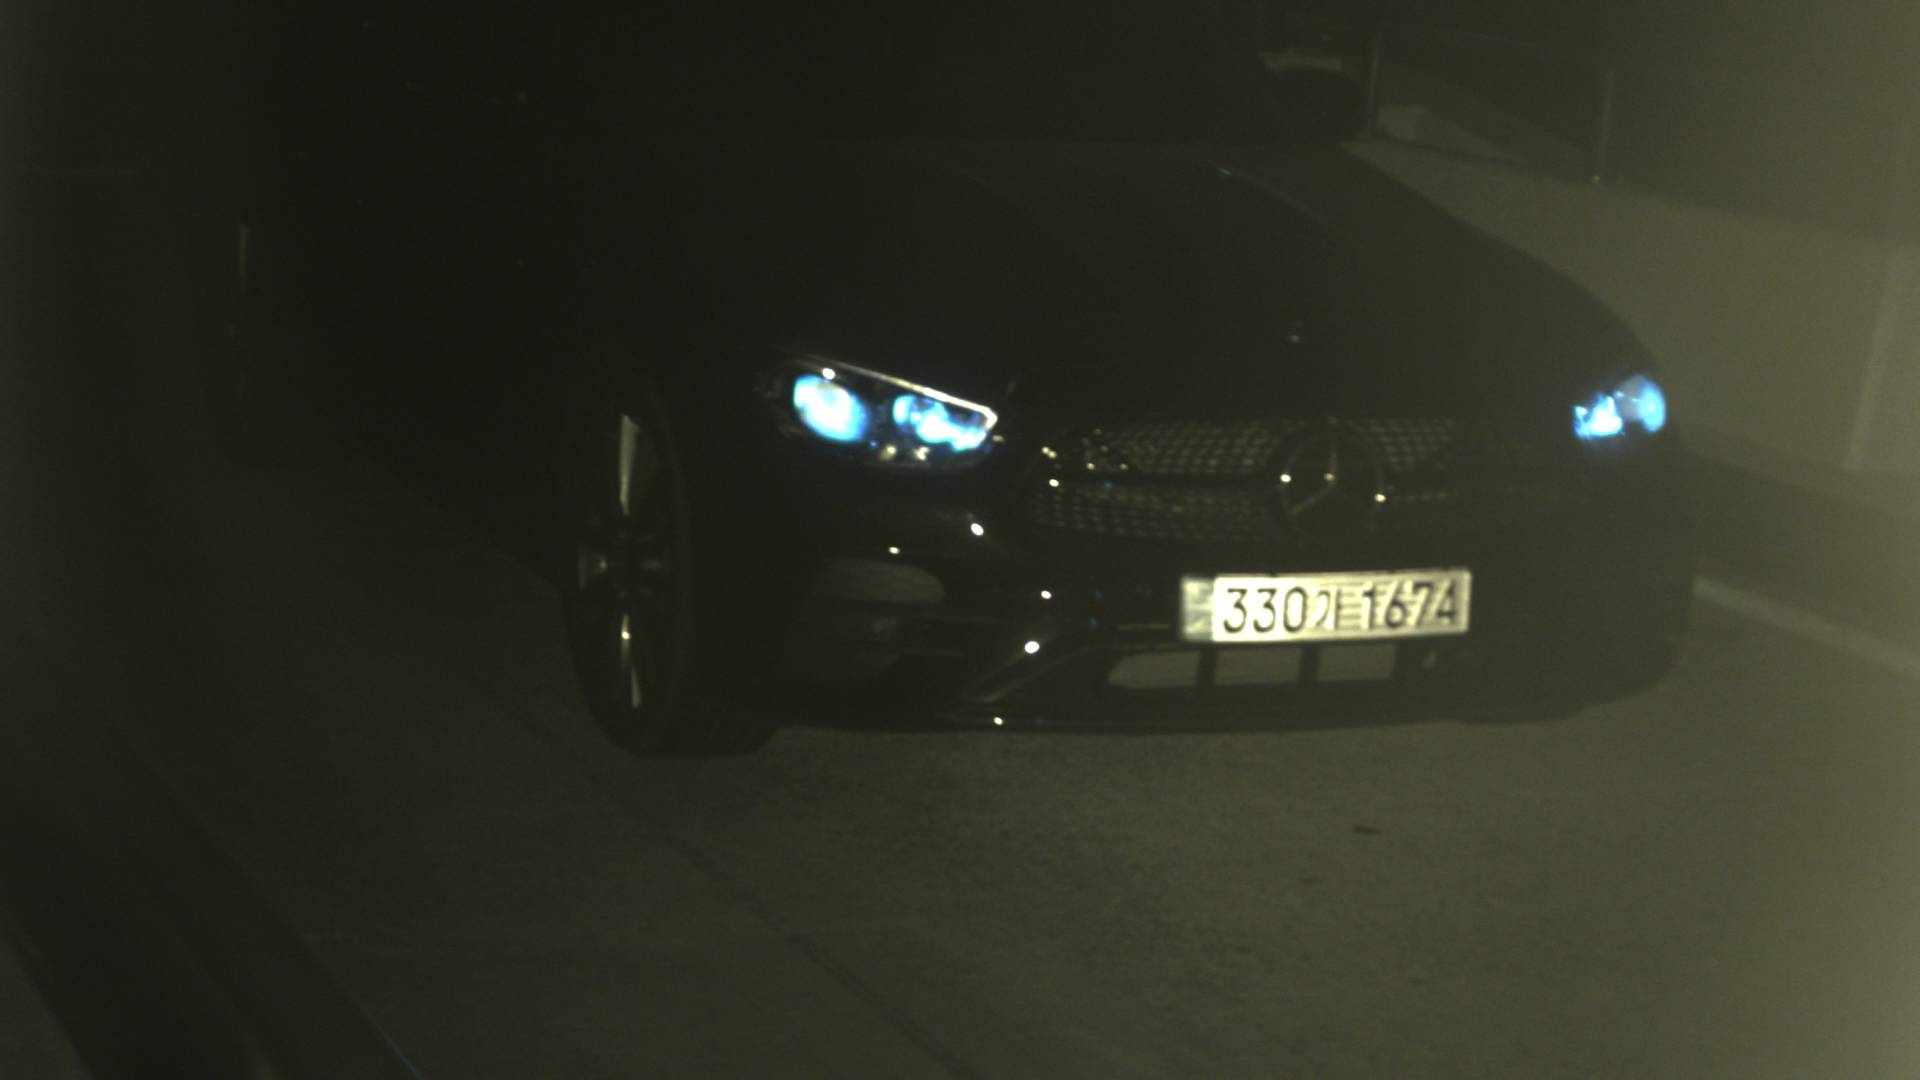car: (146, 1, 1695, 762)
plate: (1175, 565, 1477, 646)
